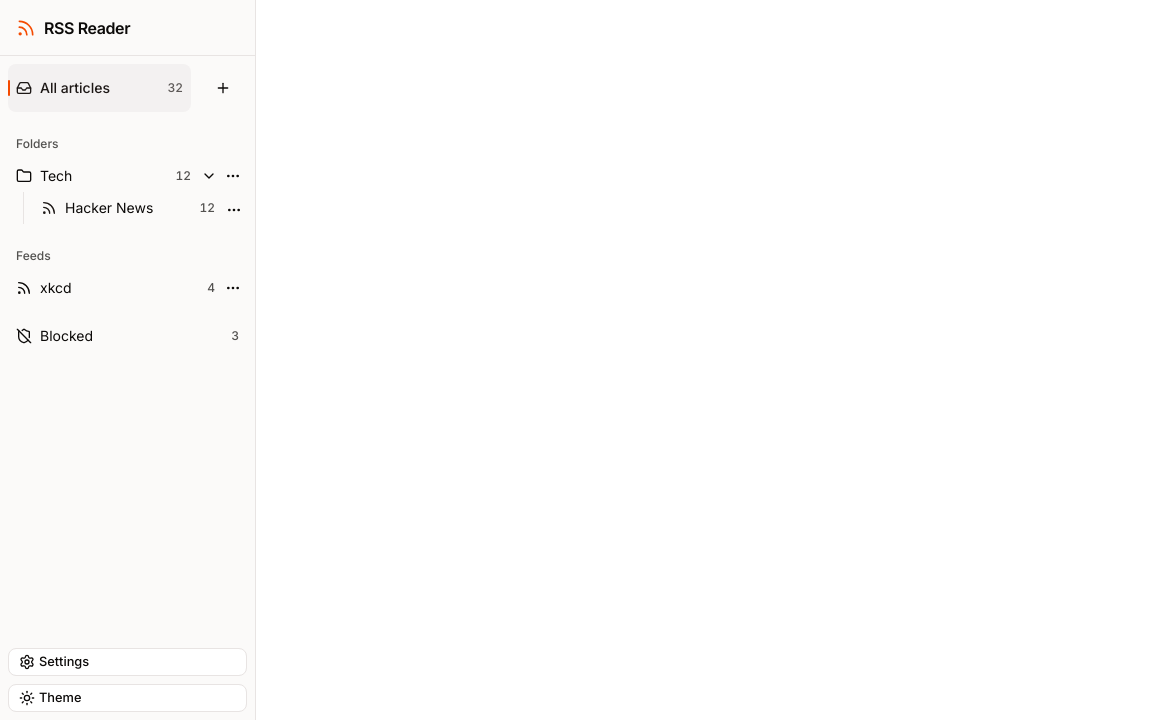
Scenario: AppSidebar › offers ungroup vs delete-feeds on folder delete and wires delete_feeds
The width and height of the screenshot is (1152, 720).
Expected: the text "Hacker News" is shown, [65, 198, 153, 218]
// Folder ellipsis → Delete folder.
Click the button named "Actions for Tech": click(233, 176) [223, 166, 243, 186]
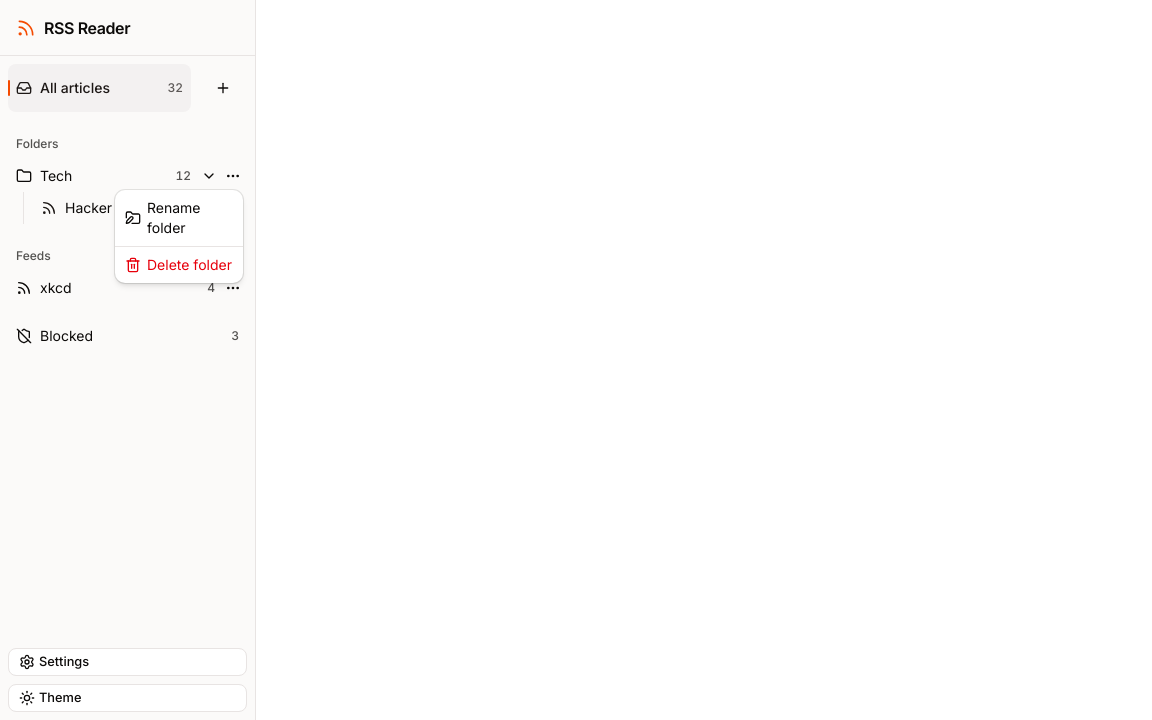
Click the menu item "Delete folder": click(179, 265) [119, 251, 239, 279]
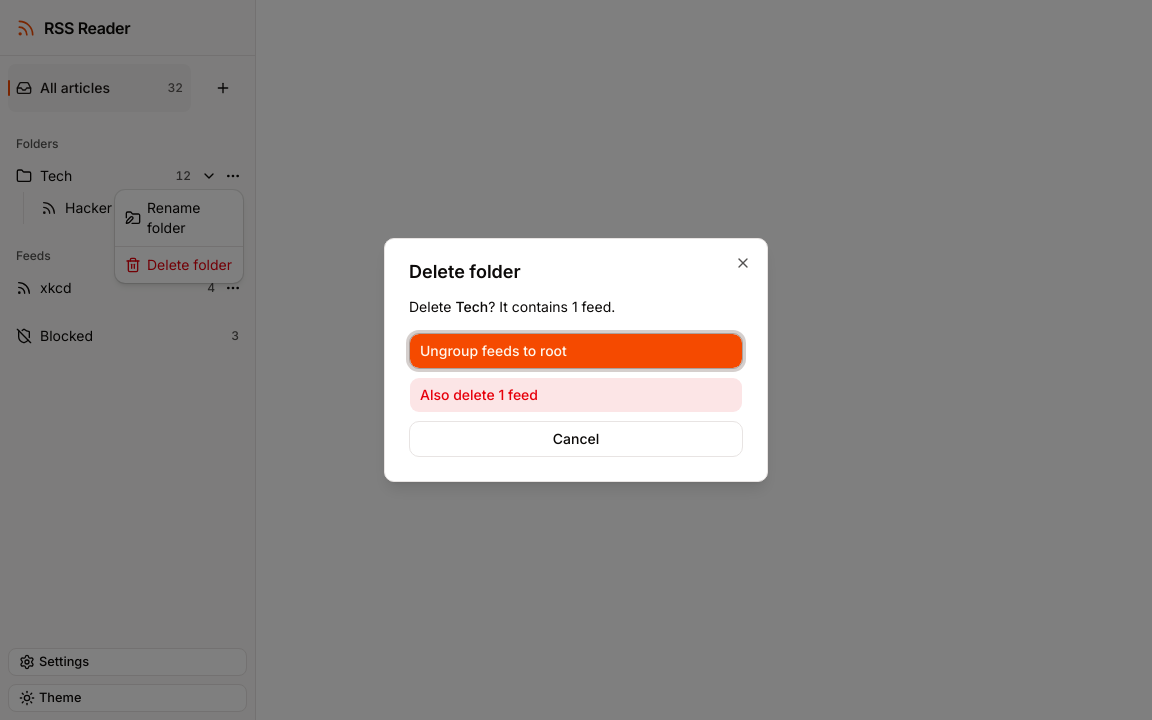
Now the button "Ungroup feeds to root" is shown, box [409, 333, 743, 369]
Click the button "Also delete 1 feed": click(459, 394) [409, 377, 743, 413]
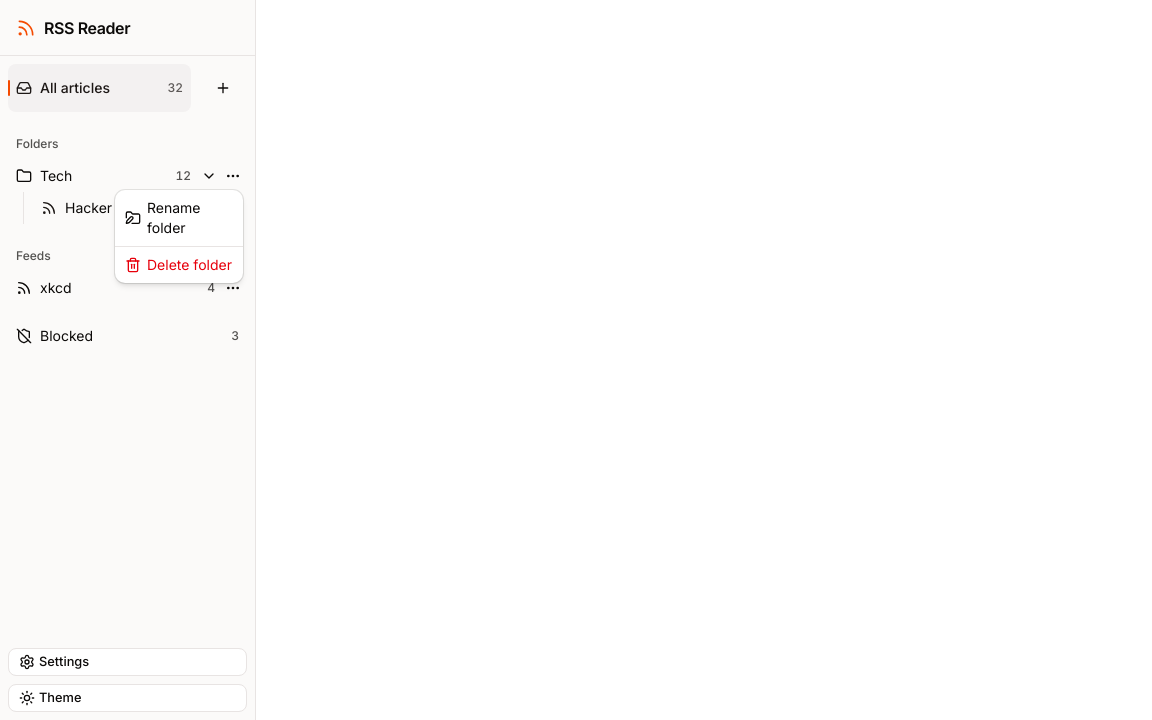
Now the dialog is gone
